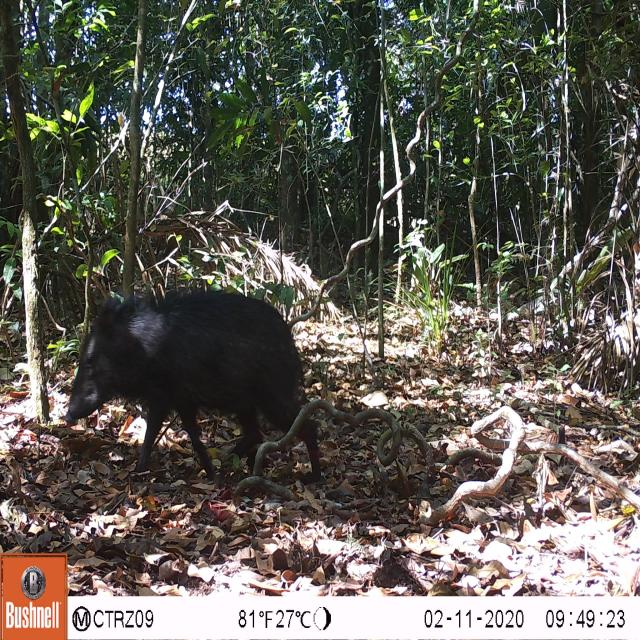Collared Peccary: (58, 271, 330, 495)
